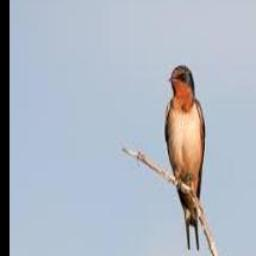Swallow: (166, 65, 205, 249)
